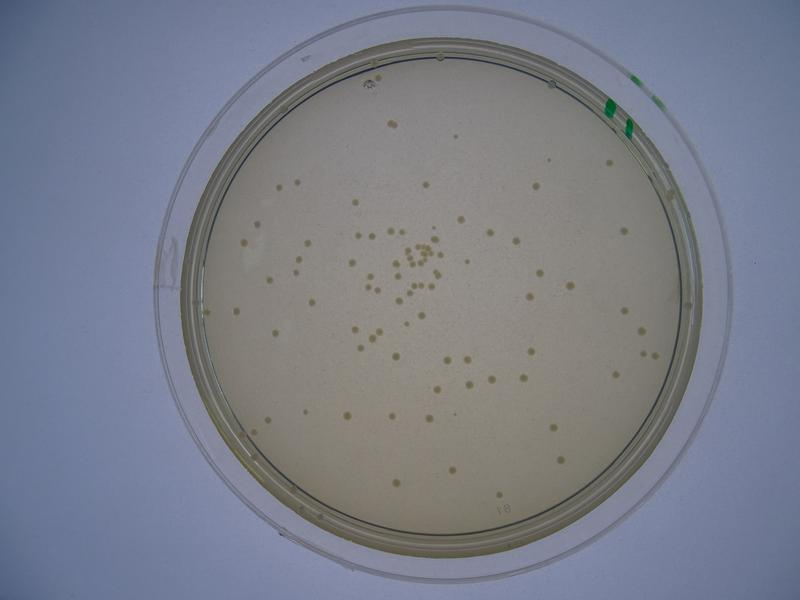colony: (617, 225, 633, 240), (445, 463, 461, 476), (420, 177, 433, 192), (634, 324, 649, 337), (387, 476, 402, 489), (269, 326, 282, 340), (509, 234, 523, 247), (516, 371, 531, 383), (524, 343, 537, 356), (522, 289, 535, 302), (431, 383, 445, 395), (389, 350, 400, 365), (484, 225, 496, 238), (340, 409, 351, 423), (610, 368, 621, 382), (462, 379, 476, 390), (344, 256, 358, 267), (601, 158, 616, 168), (556, 452, 566, 467), (350, 197, 362, 209), (485, 373, 497, 385), (251, 219, 264, 230), (261, 414, 274, 425), (442, 354, 453, 367), (534, 266, 545, 279), (384, 411, 396, 422), (530, 179, 542, 190), (548, 420, 559, 432), (230, 305, 240, 318), (349, 322, 359, 335), (619, 303, 630, 314), (460, 353, 472, 363), (294, 177, 306, 187), (415, 309, 427, 319), (426, 411, 435, 424), (565, 279, 574, 292), (266, 274, 276, 285), (306, 298, 317, 308), (456, 214, 467, 224), (449, 131, 460, 141), (272, 182, 282, 192), (303, 236, 312, 247)
